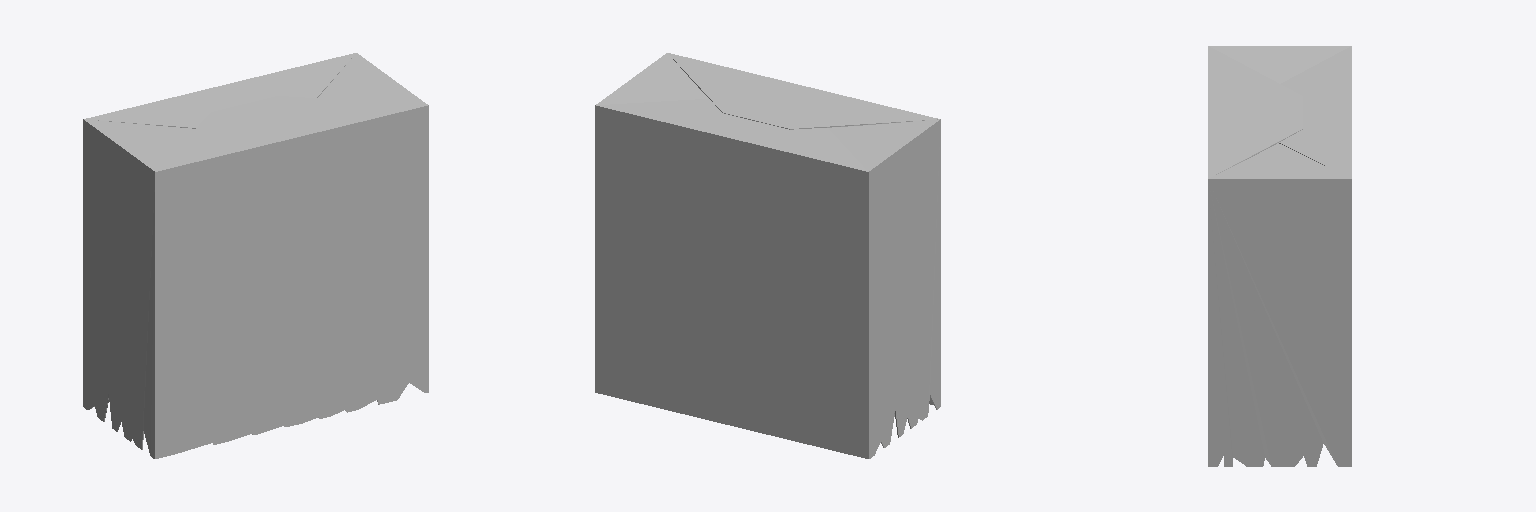
File: Mumei Friend new UVs2.obj
3 renders of one model, left to right at view 1: azimuth 30°, elevation 25°; view 2: azimuth 150°, elevation 25°; view 3: azimuth 270°, elevation 25°, orthographic.
Visible parts, largest first — view 1: Mumei_Friend_Cube; view 2: Mumei_Friend_Cube; view 3: Mumei_Friend_Cube.
Part boxes in pixels (bbox=[...]): Mumei_Friend_Cube: bbox=[83, 53, 428, 458]; Mumei_Friend_Cube: bbox=[595, 53, 940, 458]; Mumei_Friend_Cube: bbox=[1208, 46, 1351, 466].
Size of the model in its own units: 0.27 by 0.27 by 0.1228.